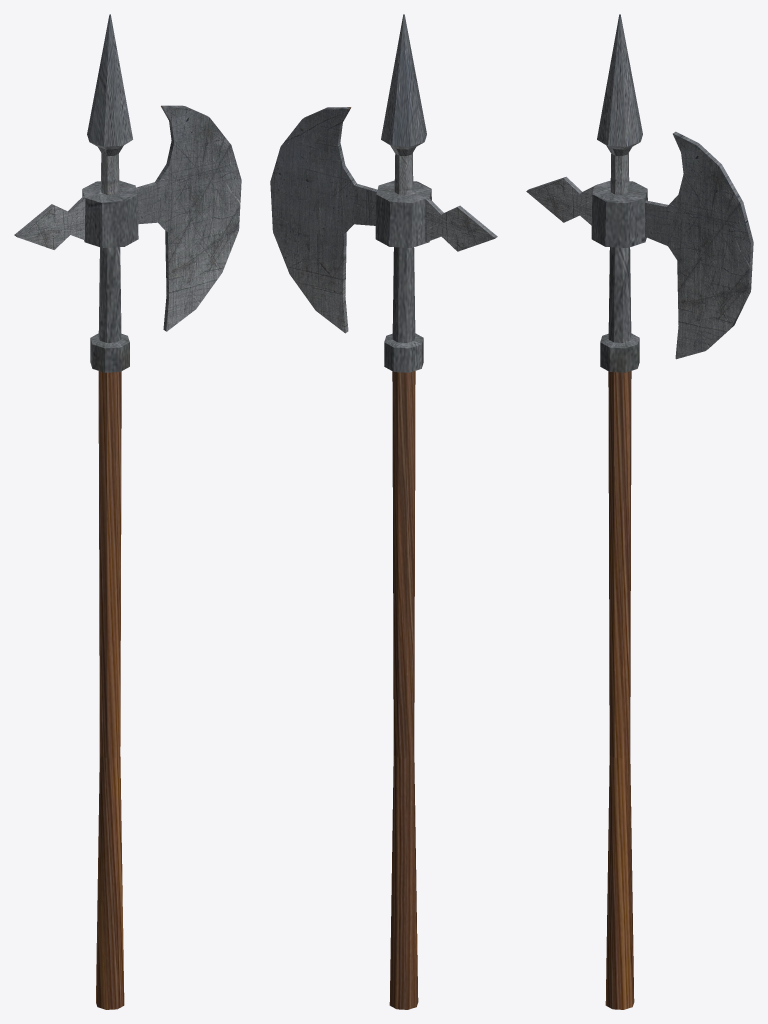
The model's file is halberd.FBX.
3 views of the same model, side by side, from view 1: azimuth 30°, elevation 25°; view 2: azimuth 150°, elevation 25°; view 3: azimuth 330°, elevation 25° (orthographic).
Parts seen in each view (by area): view 1: Cylinder003; view 2: Cylinder003; view 3: Cylinder003.
Boxes of the visible parts, box(x1,y1,x2,y2) form: Cylinder003: box(14, 14, 241, 1009); Cylinder003: box(270, 14, 497, 1009); Cylinder003: box(526, 14, 753, 1009).
Bounding box in the file's own units: 13070 × 55018 × 2964.
Materials: 1 (1 with a texture image).
